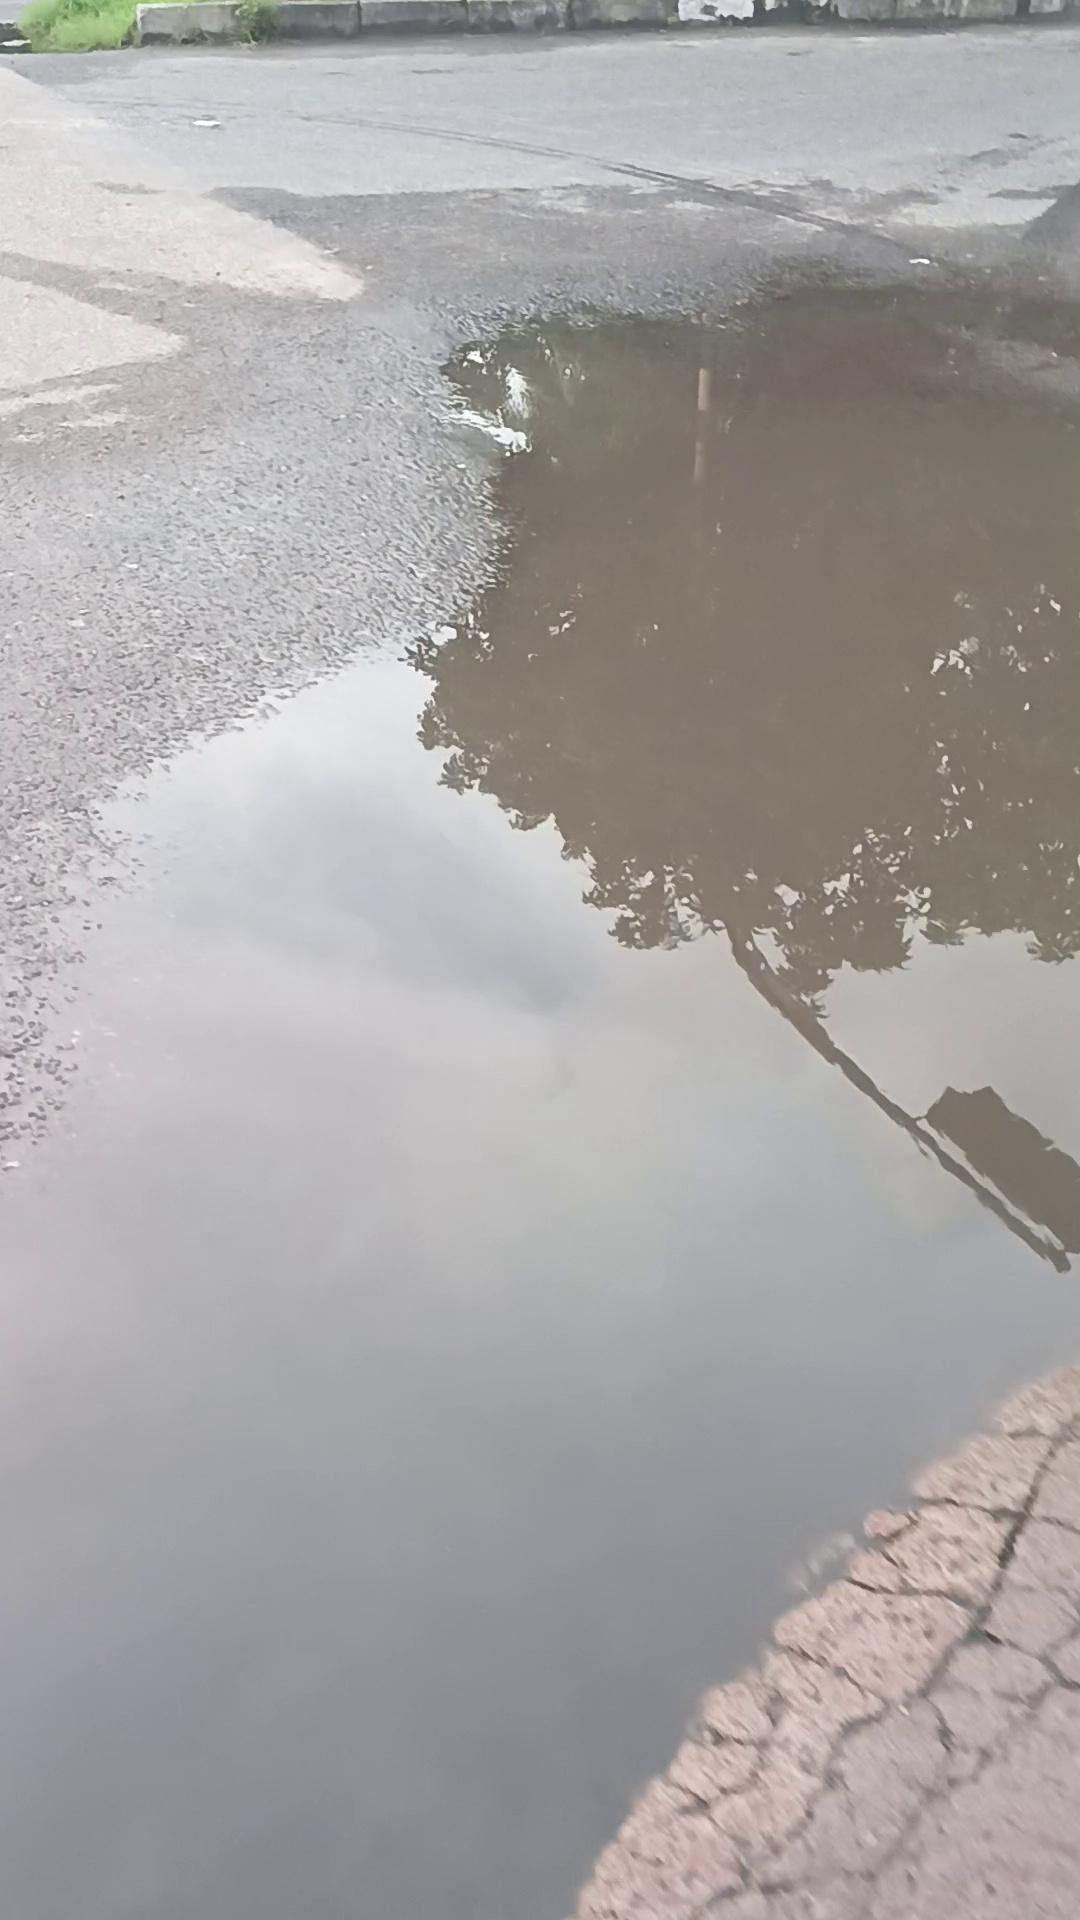Railroad-crossing: (0, 272, 1077, 1917)
